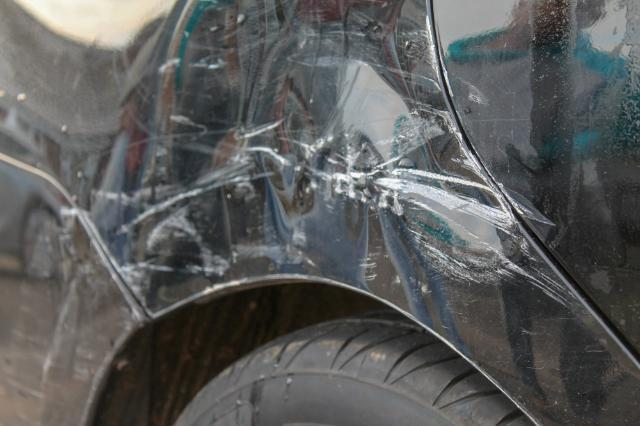scratch: (113, 112, 519, 287)
